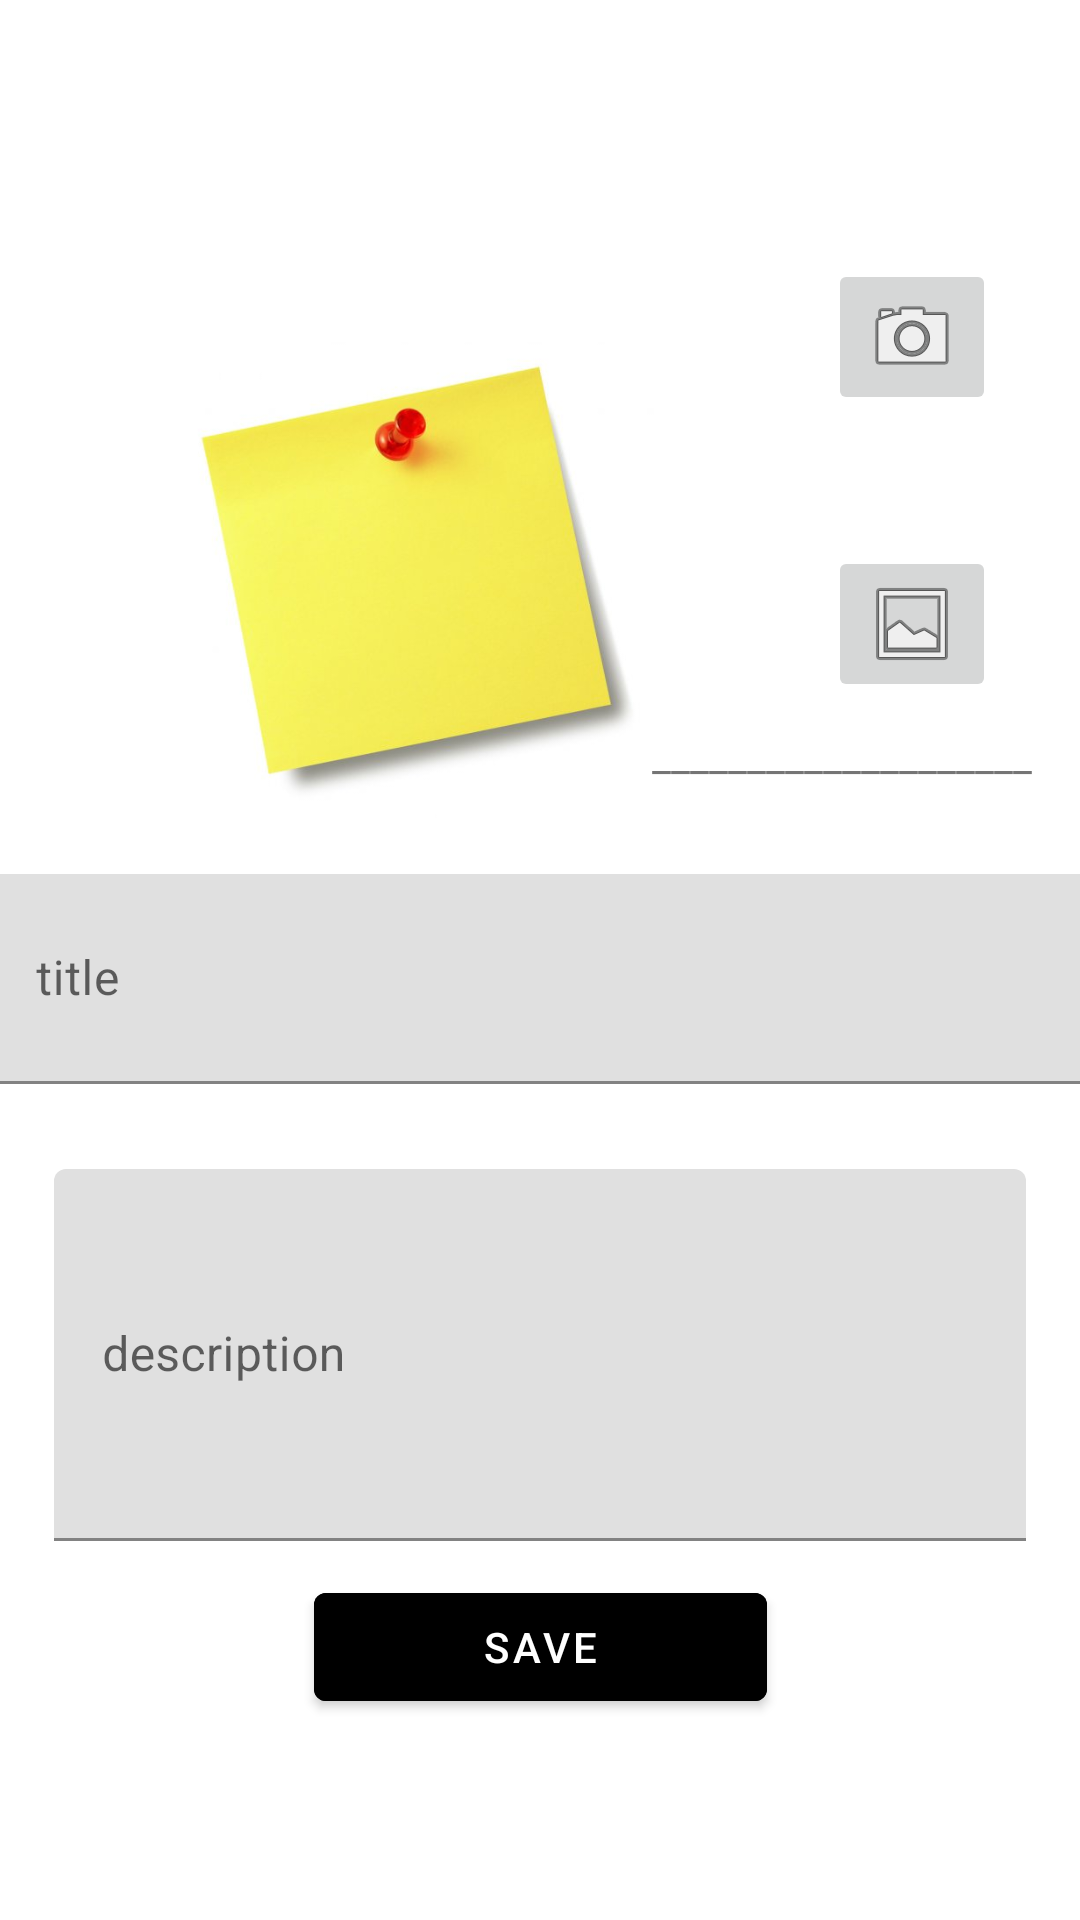

Screen size 1080 × 1920. Icon name, then its box in pixels as (x1, y1, x2, y2):
camera: (840, 277, 984, 397)
gallery: (840, 564, 984, 684)
